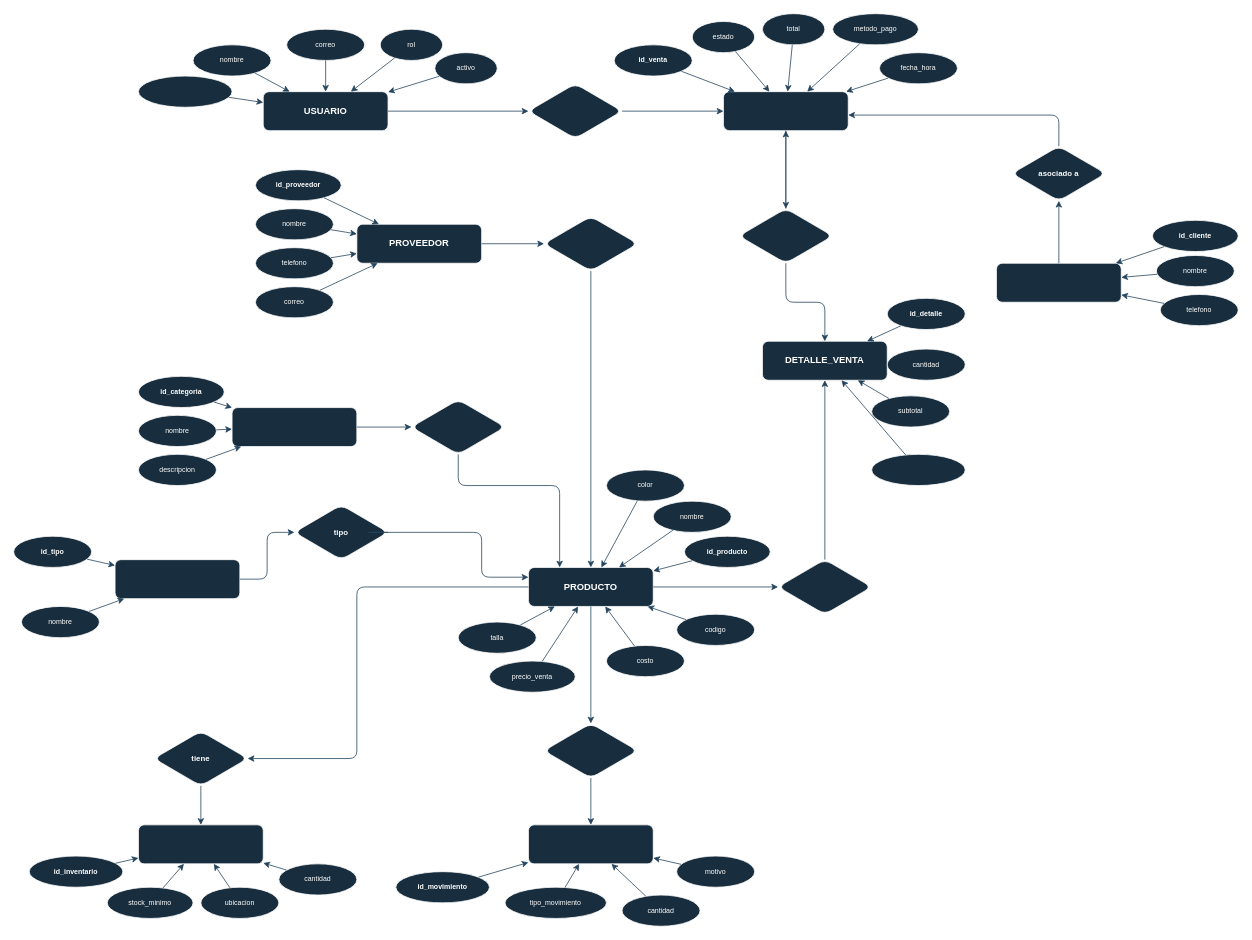
Some shapes in this 1252 by 940 pixel diagram are drawn without their labels. Here are the shapes that lost their labels. From the top down, the box of each, then its label:
(138, 75, 232, 107): id_usuario
(528, 83, 622, 138): registra
(723, 91, 848, 131): VENTA
(543, 216, 638, 271): suministra
(738, 208, 833, 263): contiene
(996, 262, 1121, 302): CLIENTE
(231, 407, 357, 447): CATEGORÍA
(411, 399, 505, 454): clasifica
(871, 454, 965, 486): precio_unitario
(114, 559, 240, 599): TIPO_PRENDA
(777, 559, 872, 614): incluido en
(543, 723, 638, 778): genera
(138, 824, 263, 864): INVENTARIO
(528, 824, 653, 864): MOV_INVENTARIO
